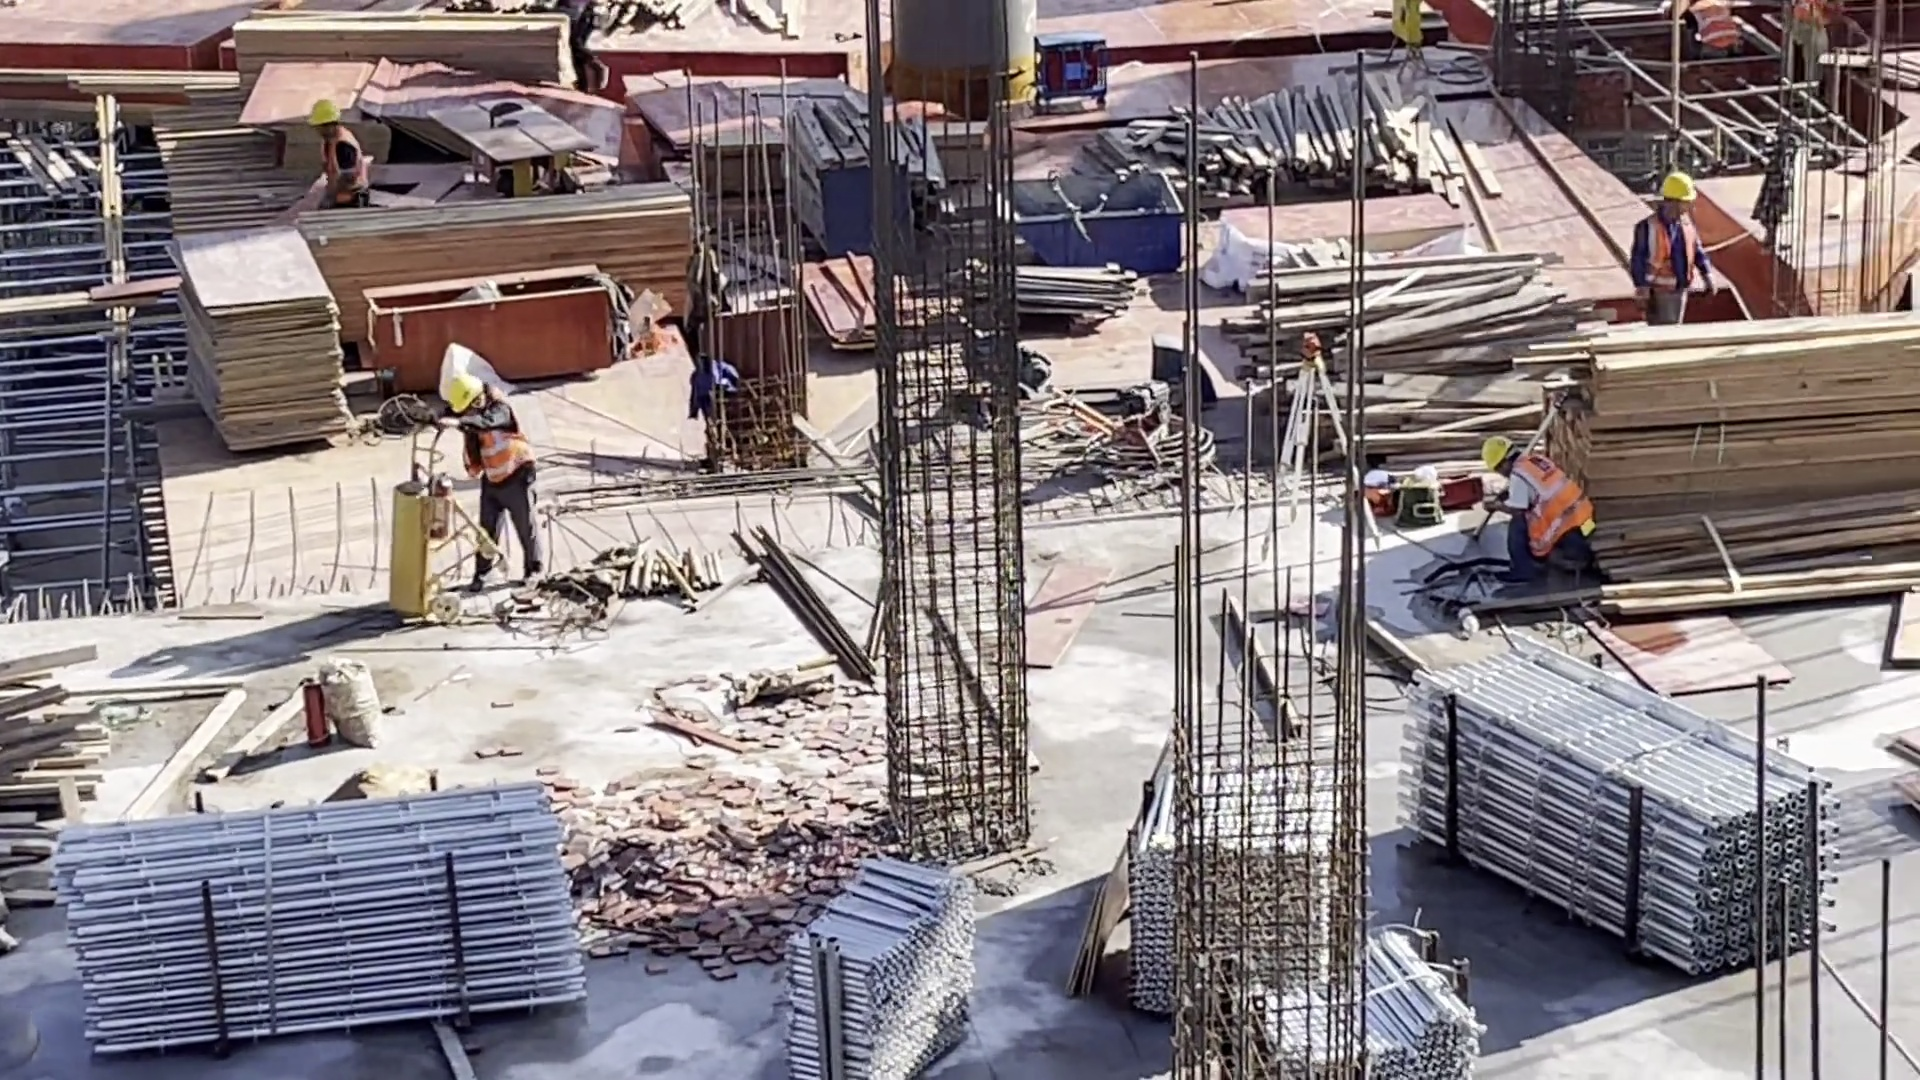board: (162, 219, 361, 460), (231, 55, 636, 160)
ebox: (1382, 1, 1426, 50)
helmet: (448, 373, 487, 410), (1662, 175, 1695, 205), (306, 99, 339, 127), (1481, 436, 1511, 464)
hopper: (994, 169, 1195, 273)
person: (444, 376, 549, 578), (1478, 438, 1603, 589), (1634, 182, 1717, 323), (304, 100, 380, 212), (1674, 2, 1747, 65)
scaffold: (1122, 631, 1845, 1080), (40, 785, 602, 1052), (792, 850, 973, 1079)
vest: (1511, 457, 1591, 554), (458, 402, 536, 488), (1643, 209, 1709, 294), (317, 134, 366, 197), (1691, 8, 1740, 46)
wood: (1539, 319, 1920, 610), (1228, 237, 1557, 464), (1120, 71, 1491, 211), (304, 189, 688, 320)
